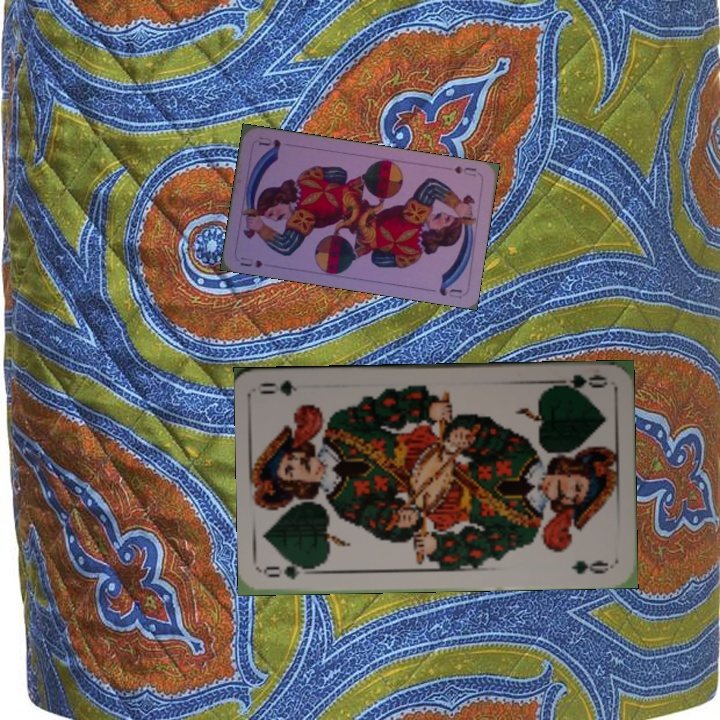GO: (549, 370, 608, 395), (262, 559, 321, 582)
SU: (236, 253, 265, 270), (450, 162, 479, 179)
